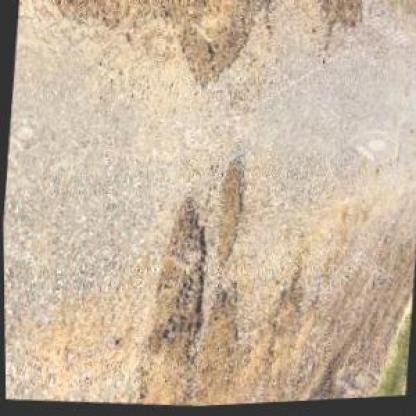pothole: (136, 197, 215, 365), (209, 156, 250, 268)
